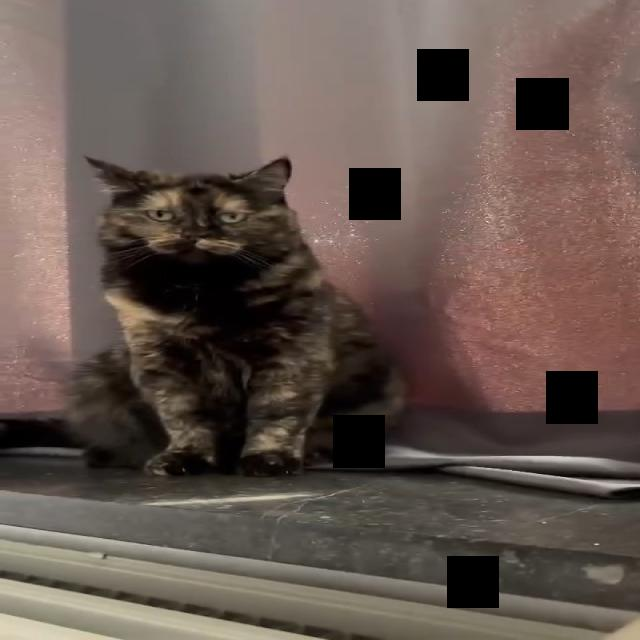authorized: (63, 154, 409, 477)
